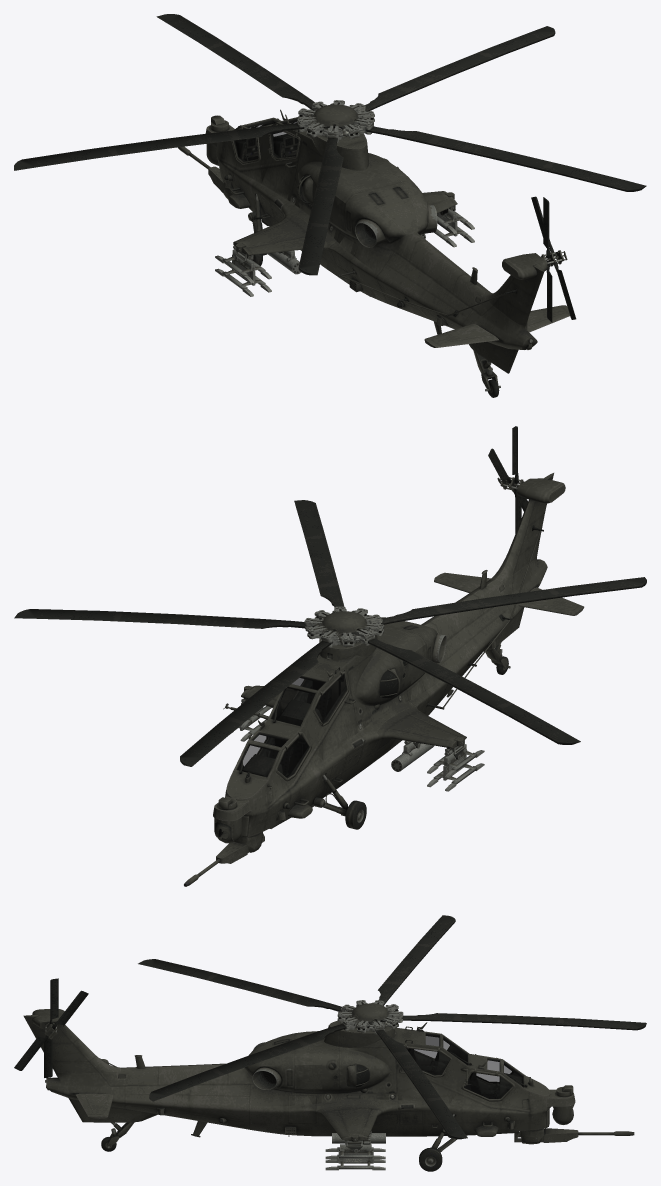
Rendered from drive_z10.glb.
3 renders of one model, top to bottom at view 1: azimuth 30°, elevation 25°; view 2: azimuth 150°, elevation 25°; view 3: azimuth 270°, elevation 25°, orthographic. The views are drawn at different scales.
Visible parts, largest first — view 1: rotor_main, Object_8, Object_7, Object_6, Object_5, Object_4, Object_3, Object_2, rotor_tail, Object_11; view 2: rotor_main, Object_8, Object_6, Object_7, Object_11, Object_3, Object_2, Object_5, Object_4, rotor_tail; view 3: Object_7, rotor_main, Object_3, Object_8, Object_6, Object_5, Object_4, Object_2, Object_11, rotor_tail.
Boxes of the visible parts, bbox=[...] form: rotor_main: bbox=[14, 14, 646, 275]; Object_8: bbox=[224, 109, 543, 349]; Object_7: bbox=[205, 117, 547, 391]; Object_6: bbox=[216, 110, 529, 371]; Object_5: bbox=[215, 158, 518, 391]; Object_4: bbox=[177, 118, 569, 397]; Object_3: bbox=[209, 115, 556, 322]; Object_2: bbox=[206, 120, 514, 371]; rotor_tail: bbox=[502, 196, 576, 319]; Object_11: bbox=[233, 118, 298, 161]; rotor_main: bbox=[14, 500, 646, 766]; Object_8: bbox=[213, 474, 553, 837]; Object_6: bbox=[220, 501, 544, 841]; Object_7: bbox=[214, 473, 561, 837]; Object_11: bbox=[219, 674, 347, 839]; Object_3: bbox=[215, 483, 521, 843]; Object_2: bbox=[214, 608, 522, 841]; Object_5: bbox=[231, 572, 524, 807]; Object_4: bbox=[184, 572, 584, 886]; rotor_tail: bbox=[488, 426, 565, 531]; Object_7: bbox=[23, 1009, 573, 1166]; rotor_main: bbox=[138, 915, 646, 1139]; Object_3: bbox=[44, 1039, 573, 1136]; Object_8: bbox=[23, 1016, 575, 1140]; Object_6: bbox=[77, 1022, 542, 1166]; Object_5: bbox=[68, 1056, 514, 1170]; Object_4: bbox=[75, 1035, 634, 1151]; Object_2: bbox=[252, 1048, 574, 1171]; Object_11: bbox=[406, 1033, 573, 1113]; rotor_tail: bbox=[14, 978, 88, 1070].
Bounding box in the file's own units: 11.39 × 4.3 × 13.63.
2 materials, 1 textured.
